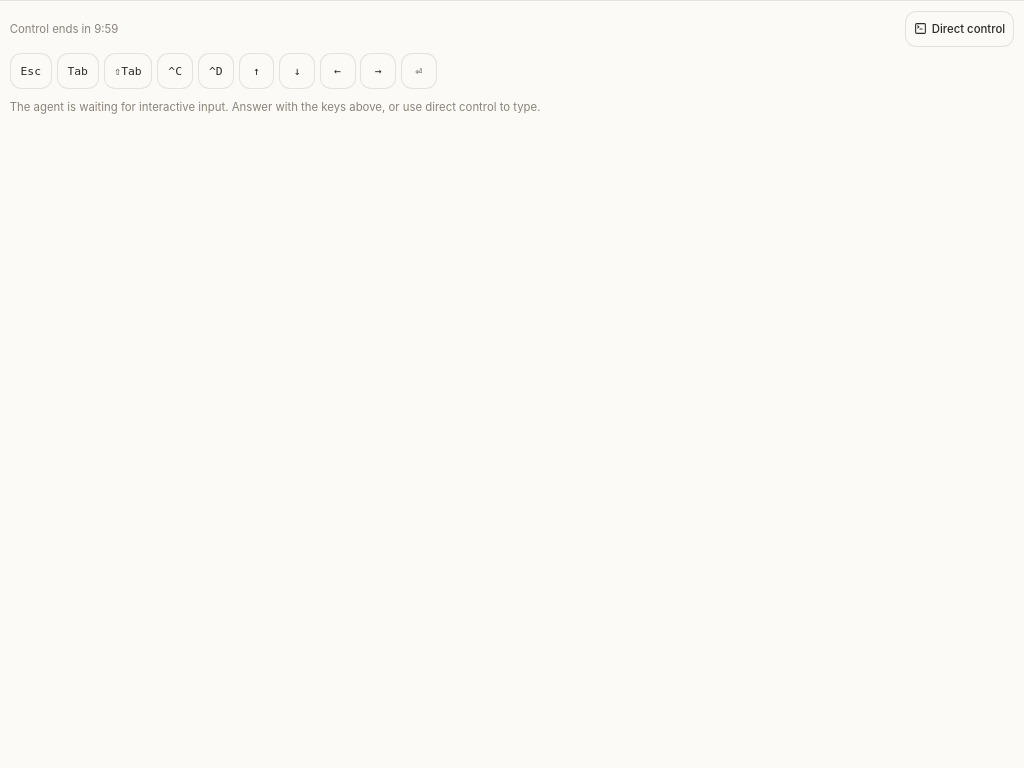
Test: scrolls the approval preview in a ScrollArea rather than a bare overflow
Click the button named "Enter": (419, 71) top-left (401, 53), bottom-right (437, 89)
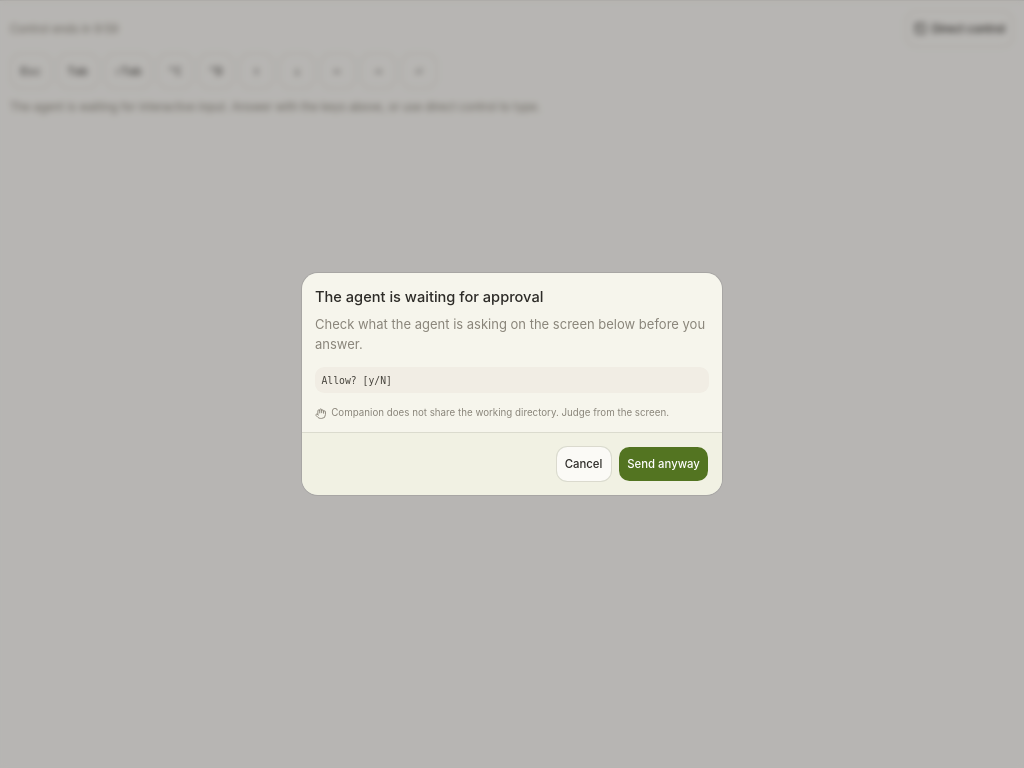
Now the element showing "Allow? [y/N]" is shown, box top-left (315, 367), bottom-right (709, 393)
